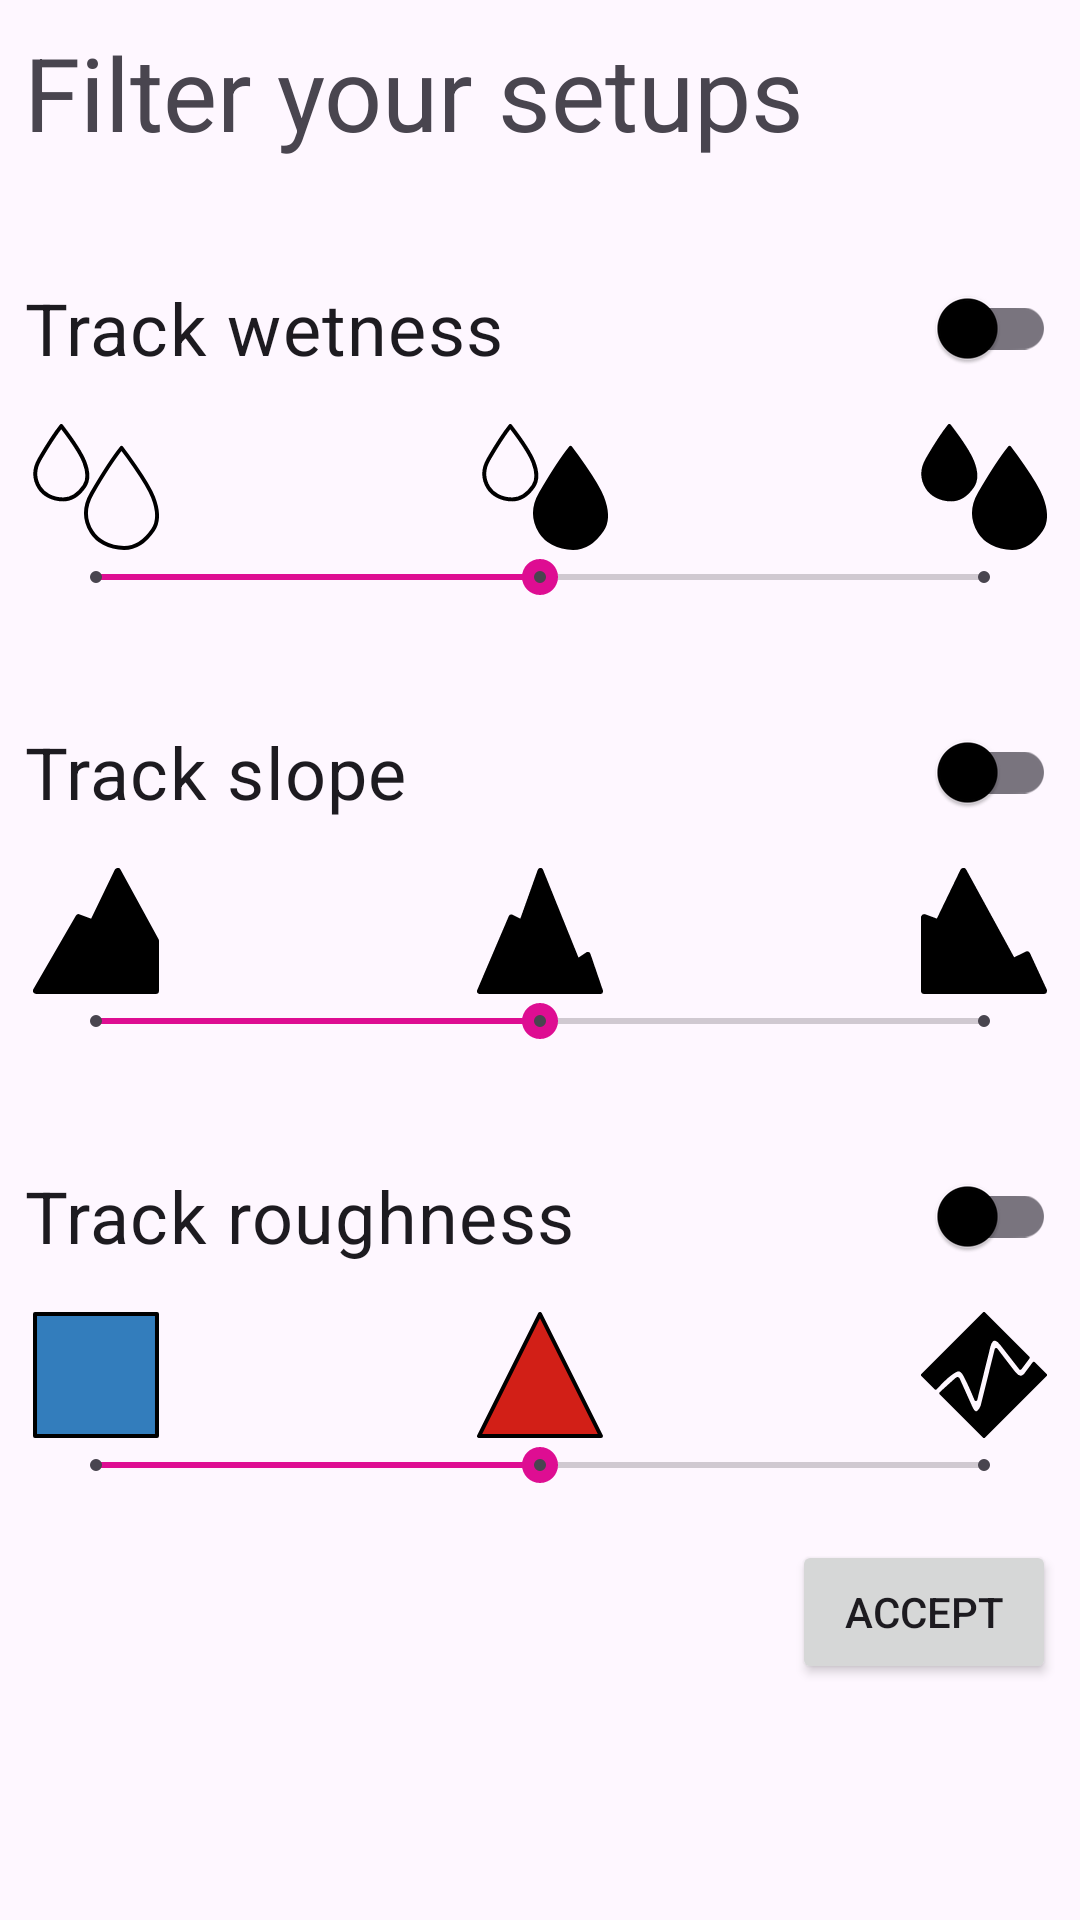

Screen size 1080x1920. Icon name, then its box in pixels as [left=x1, top=y1, right=x2, bottom=y2]:
All-mountain: [left=477, top=868, right=603, bottom=994]
Dry: [left=33, top=424, right=159, bottom=550]
Semidry: [left=482, top=424, right=608, bottom=550]
Wet: [left=921, top=424, right=1047, bottom=550]
